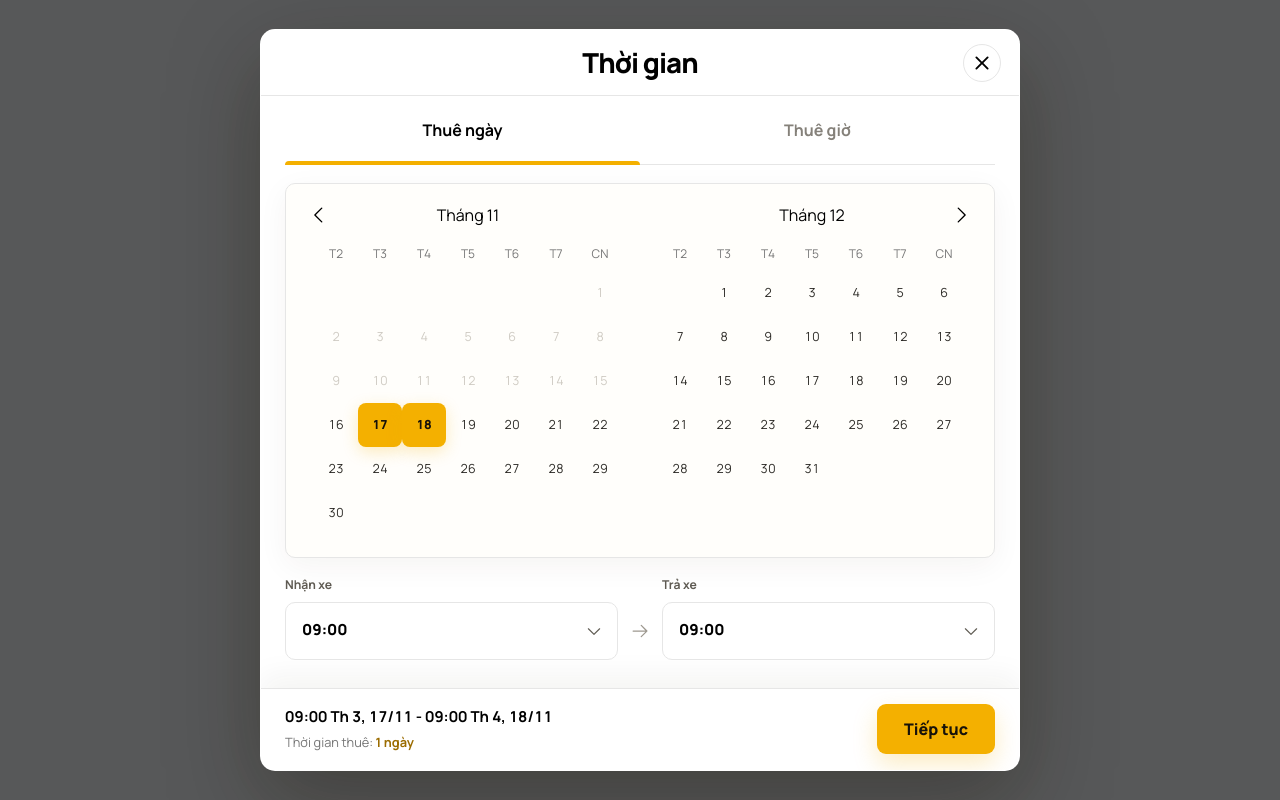
Test: explains when no pickup slots remain today
Click the button named "Chọn ngày 16 tháng 11" at (336, 425), box [314,403,358,447]
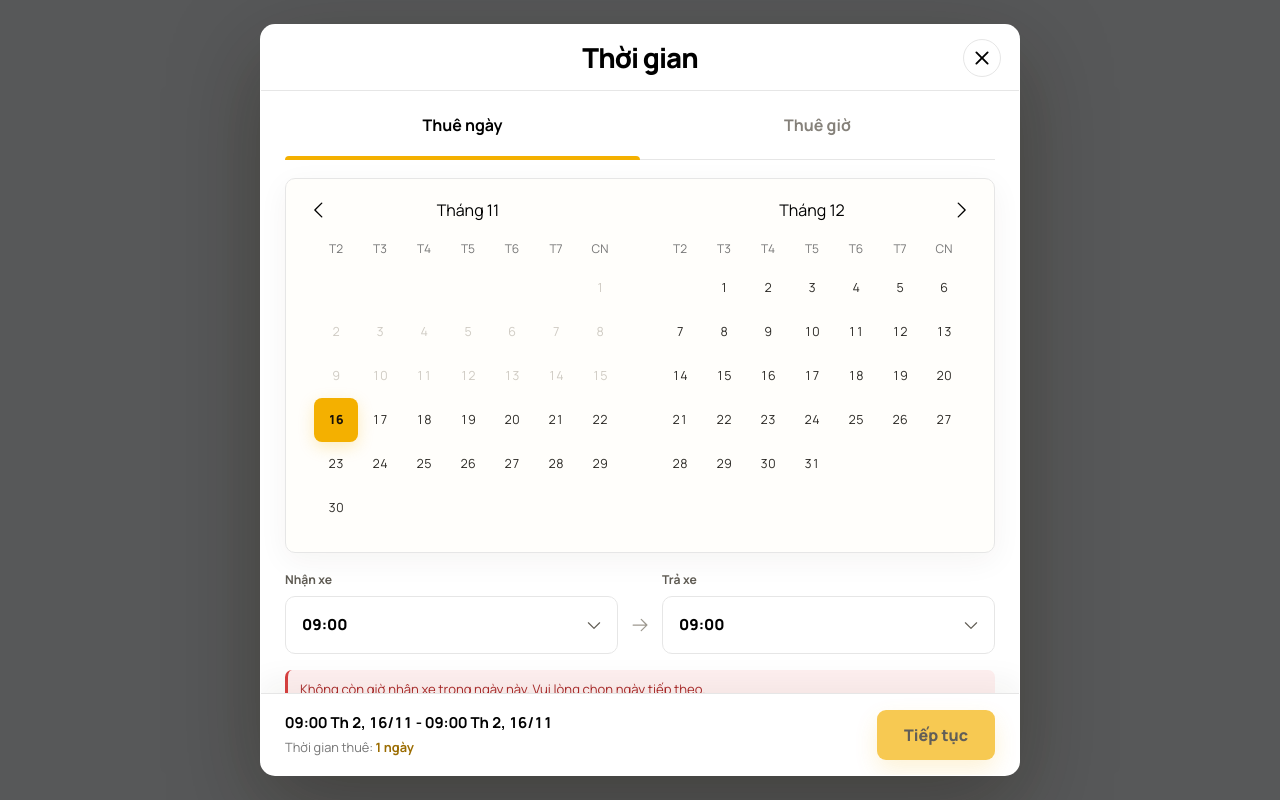
Now the text "Không còn giờ nhận xe trong ngày này. Vui lòng chọn ngày tiếp theo." is shown, box [300,680,706,693]
Now the button "Tiếp tục" is disabled, box [877,710,995,760]
